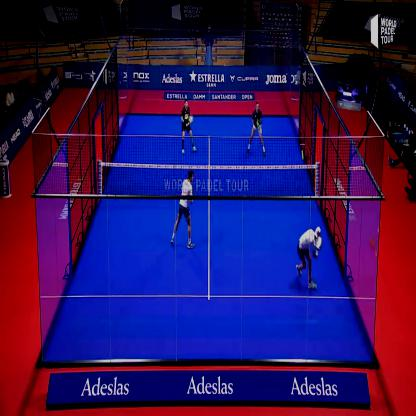ball: (300, 144, 306, 163)
